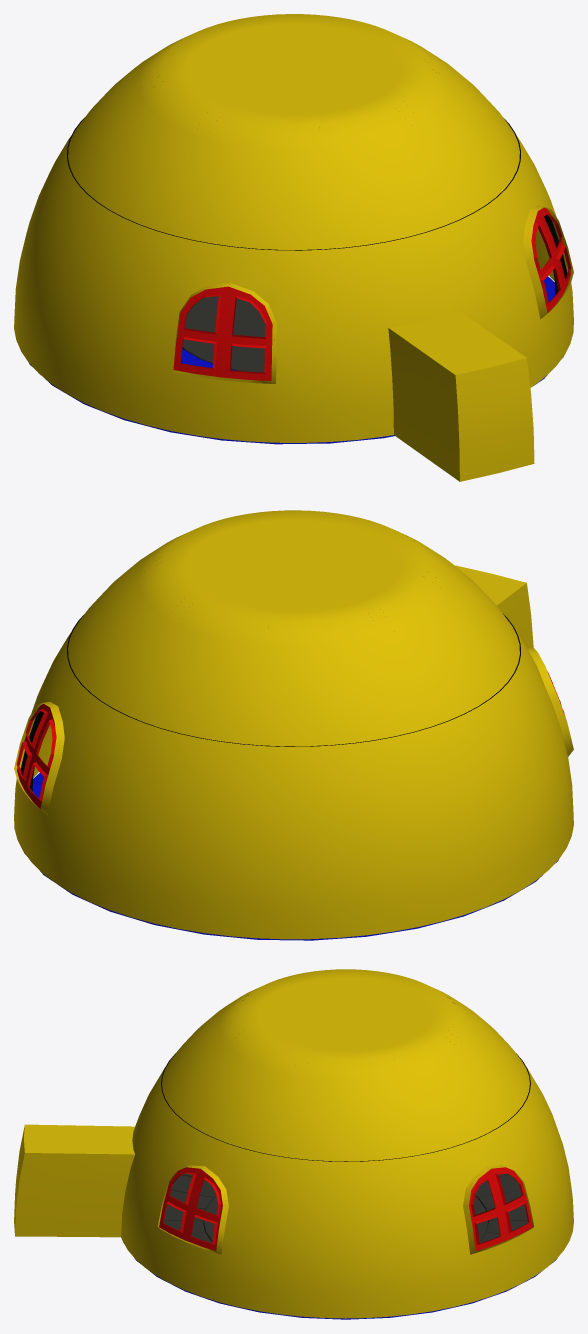
Rendered from Wall.fbx.
3 renders of one model, top to bottom at view 1: azimuth 30°, elevation 25°; view 2: azimuth 150°, elevation 25°; view 3: azimuth 270°, elevation 25°, orthographic. The views are drawn at different scales.
Visible parts, largest first — view 1: Wall; view 2: Wall; view 3: Wall.
Boxes of the visible parts, box(x1,y1,x2,y2) form: Wall: box(14, 14, 573, 481); Wall: box(14, 510, 573, 940); Wall: box(14, 969, 573, 1319).
Bounding box in the file's own units: 1516 × 767 × 1862.
